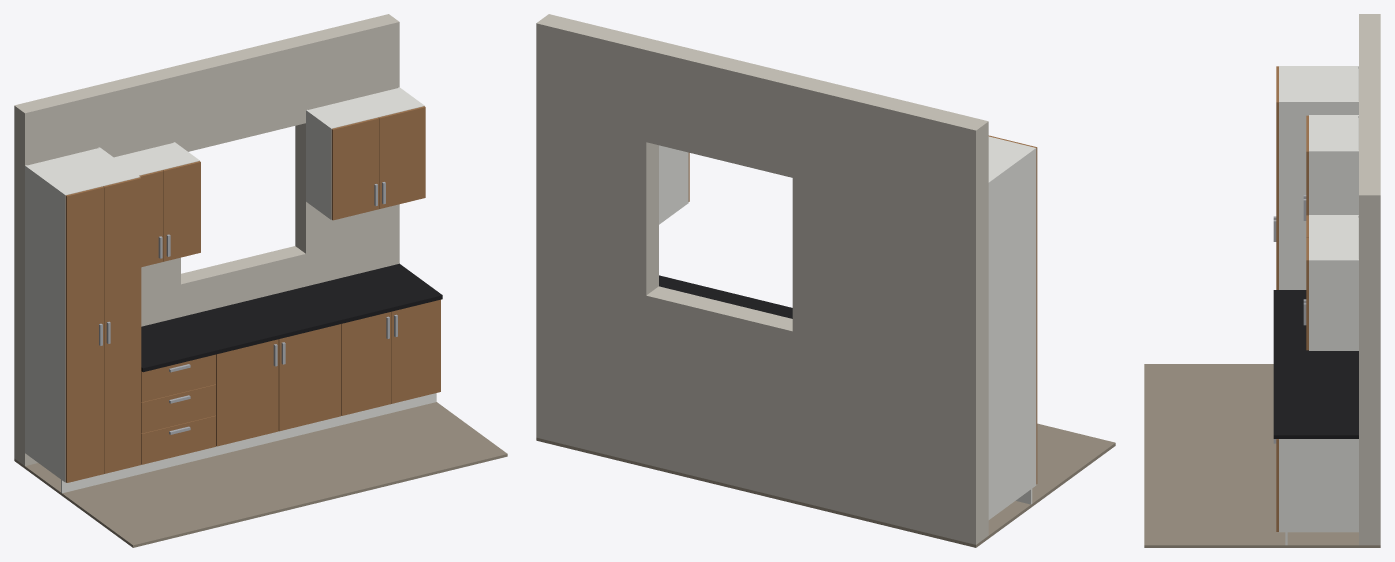
The model's file is MVP_Cozinha_Teste.dae.
3 views of the same model, side by side, from view 1: azimuth 30°, elevation 25°; view 2: azimuth 150°, elevation 25°; view 3: azimuth 270°, elevation 25° (orthographic). The views are drawn at different scales.
Visible parts, largest first — view 1: Piso, M01_tall_cabinet, Parede_1, Parede_4, M02_drawer_cabinet_Tampo, M01_tall_cabinet_Lateral_Esquerda, M03_sink_cabinet, Parede_3, M04_base_cabinet, M06_wall_cabinet, M02_drawer_cabinet, M05_wall_cabinet (+9 smaller); view 2: Parede_1, Parede_4, Parede_2, M01_tall_cabinet_Lateral_Esquerda, Parede_3, Piso, M06_wall_cabinet_Lateral_Esquerda, M02_drawer_cabinet_Tampo, M01_tall_cabinet_Tampo_Interno, M01_tall_cabinet; view 3: Piso, M02_drawer_cabinet_Tampo, Parede_4, M04_base_cabinet_Lateral_Direita, M01_tall_cabinet_Lateral_Direita, M06_wall_cabinet_Lateral_Direita, M05_wall_cabinet_Lateral_Direita, M01_tall_cabinet_Tampo_Interno, M06_wall_cabinet_Tampo_Interno, M05_wall_cabinet_Tampo_Interno, Parede_1, Parede_3 (+3 smaller).
Boxes of the visible parts, x1,y1,x2,y2 form: Piso: [14, 402, 507, 547]; M01_tall_cabinet: [65, 177, 141, 482]; Parede_1: [14, 67, 180, 465]; Parede_4: [295, 14, 399, 286]; M02_drawer_cabinet_Tampo: [141, 263, 442, 372]; M01_tall_cabinet_Lateral_Esquerda: [25, 165, 66, 482]; M03_sink_cabinet: [216, 324, 340, 446]; Parede_3: [171, 37, 305, 151]; M04_base_cabinet: [341, 299, 440, 415]; M06_wall_cabinet: [331, 106, 425, 220]; M02_drawer_cabinet: [141, 354, 215, 464]; M05_wall_cabinet: [139, 161, 200, 267]; Parede_1: [792, 76, 988, 544]; Parede_4: [536, 14, 658, 464]; Parede_2: [646, 286, 792, 499]; M01_tall_cabinet_Lateral_Esquerda: [988, 147, 1036, 519]; Parede_3: [646, 41, 804, 177]; Piso: [536, 423, 1115, 547]; M06_wall_cabinet_Lateral_Esquerda: [659, 145, 688, 224]; M02_drawer_cabinet_Tampo: [659, 275, 792, 318]; M01_tall_cabinet_Tampo_Interno: [988, 136, 1033, 180]; M01_tall_cabinet: [988, 135, 1037, 484]; Piso: [1144, 364, 1380, 547]; M02_drawer_cabinet_Tampo: [1273, 290, 1358, 438]; Parede_4: [1359, 150, 1380, 545]; M04_base_cabinet_Lateral_Direita: [1279, 439, 1358, 532]; M01_tall_cabinet_Lateral_Direita: [1279, 101, 1358, 289]; M06_wall_cabinet_Lateral_Direita: [1309, 259, 1358, 350]; M05_wall_cabinet_Lateral_Direita: [1309, 150, 1358, 214]; M01_tall_cabinet_Tampo_Interno: [1279, 66, 1358, 101]; M06_wall_cabinet_Tampo_Interno: [1309, 215, 1358, 259]; M05_wall_cabinet_Tampo_Interno: [1309, 116, 1358, 150]; Parede_1: [1359, 14, 1380, 89]; Parede_3: [1359, 89, 1380, 149].
Size of the model in its own units: 3000 by 1650 by 2720.
